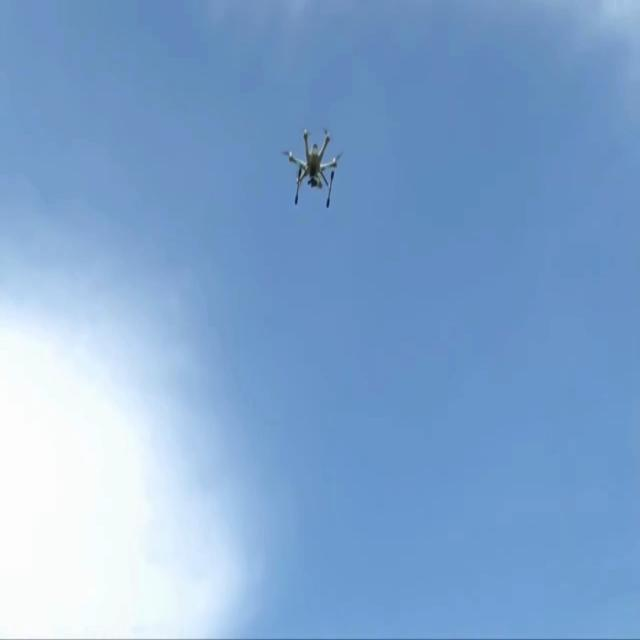drone: (282, 127, 343, 208)
